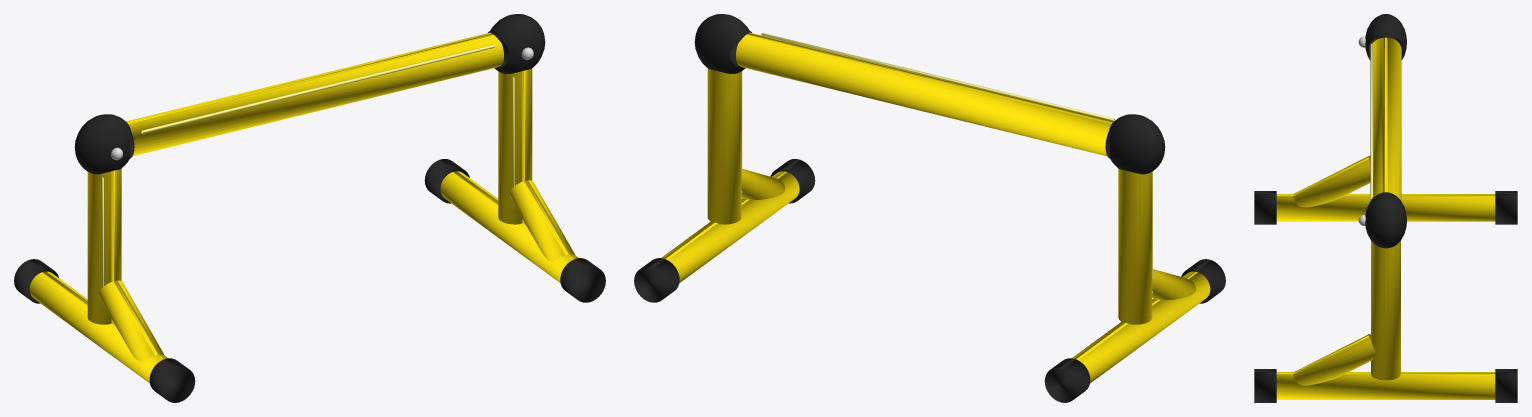
File: Minihuerde_3D.glb
The picture shows the model from 3 angles, left to right: view 1: azimuth 30°, elevation 25°; view 2: azimuth 150°, elevation 25°; view 3: azimuth 270°, elevation 25°; orthographic projection. The views are drawn at different scales.
Parts seen in each view (by area): view 1: Minihuerde_3D__web_safety_yellow_mini_hurdle_tubes, Minihuerde_3D__web_black_rubber_mini_hurdle_elbows_and_caps, Minihuerde_3D__web_subtle_yellow_mini_hurdle_tube_highlights; view 2: Minihuerde_3D__web_safety_yellow_mini_hurdle_tubes, Minihuerde_3D__web_black_rubber_mini_hurdle_elbows_and_caps, Minihuerde_3D__web_subtle_yellow_mini_hurdle_tube_highlights; view 3: Minihuerde_3D__web_safety_yellow_mini_hurdle_tubes, Minihuerde_3D__web_black_rubber_mini_hurdle_elbows_and_caps, Minihuerde_3D__web_subtle_yellow_mini_hurdle_tube_highlights.
Part boxes in pixels (x1,y1,x2,y2): Minihuerde_3D__web_safety_yellow_mini_hurdle_tubes: (29, 32, 578, 383); Minihuerde_3D__web_black_rubber_mini_hurdle_elbows_and_caps: (14, 14, 605, 402); Minihuerde_3D__web_subtle_yellow_mini_hurdle_tube_highlights: (101, 44, 514, 304); Minihuerde_3D__web_safety_yellow_mini_hurdle_tubes: (661, 32, 1210, 383); Minihuerde_3D__web_black_rubber_mini_hurdle_elbows_and_caps: (634, 14, 1225, 402); Minihuerde_3D__web_subtle_yellow_mini_hurdle_tube_highlights: (741, 33, 1152, 293); Minihuerde_3D__web_safety_yellow_mini_hurdle_tubes: (1276, 37, 1495, 399); Minihuerde_3D__web_black_rubber_mini_hurdle_elbows_and_caps: (1254, 14, 1517, 402); Minihuerde_3D__web_subtle_yellow_mini_hurdle_tube_highlights: (1370, 43, 1373, 198).
Bounding box in the file's own units: 1.27 × 0.605 × 0.7.
